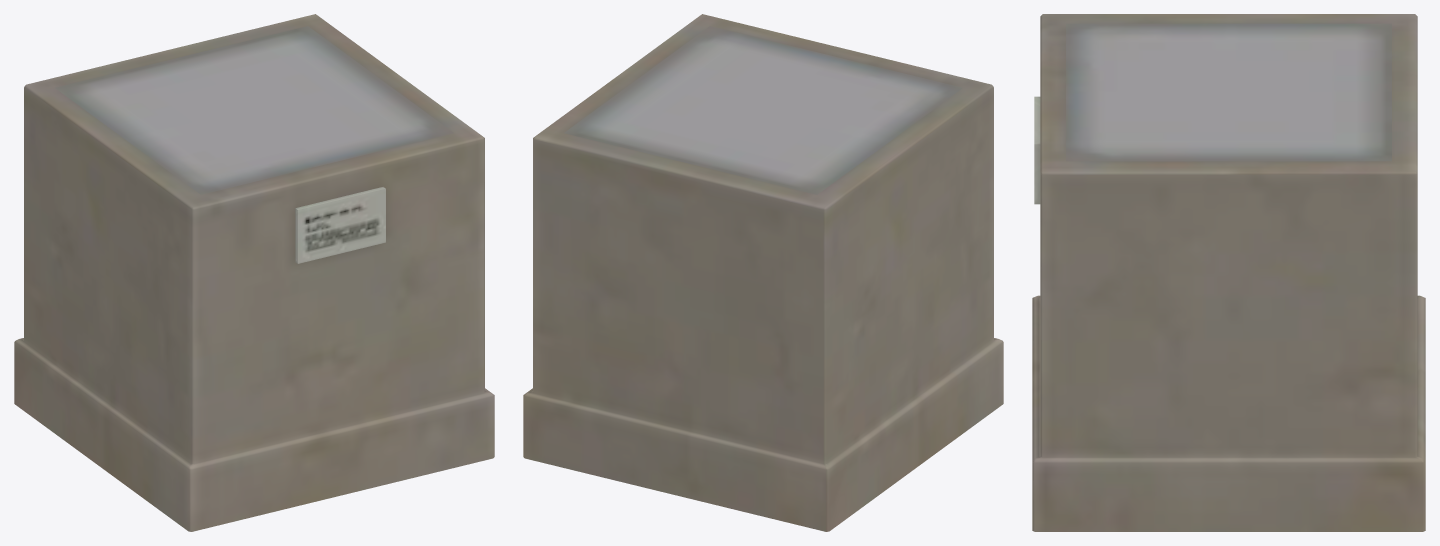
3 views of the same model, side by side, from view 1: azimuth 30°, elevation 25°; view 2: azimuth 150°, elevation 25°; view 3: azimuth 270°, elevation 25° (orthographic). The views are drawn at different scales.
Size of the model in its own units: 10 by 10 by 10.
Materials: 1 (1 with a texture image).
